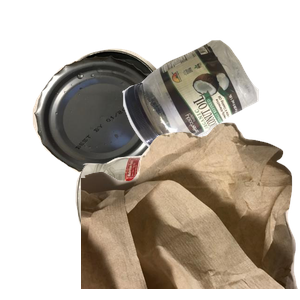glass: (73, 153, 284, 300)
metal: (30, 46, 205, 215)
plastic: (120, 37, 300, 185)
trash: (81, 120, 300, 300)
